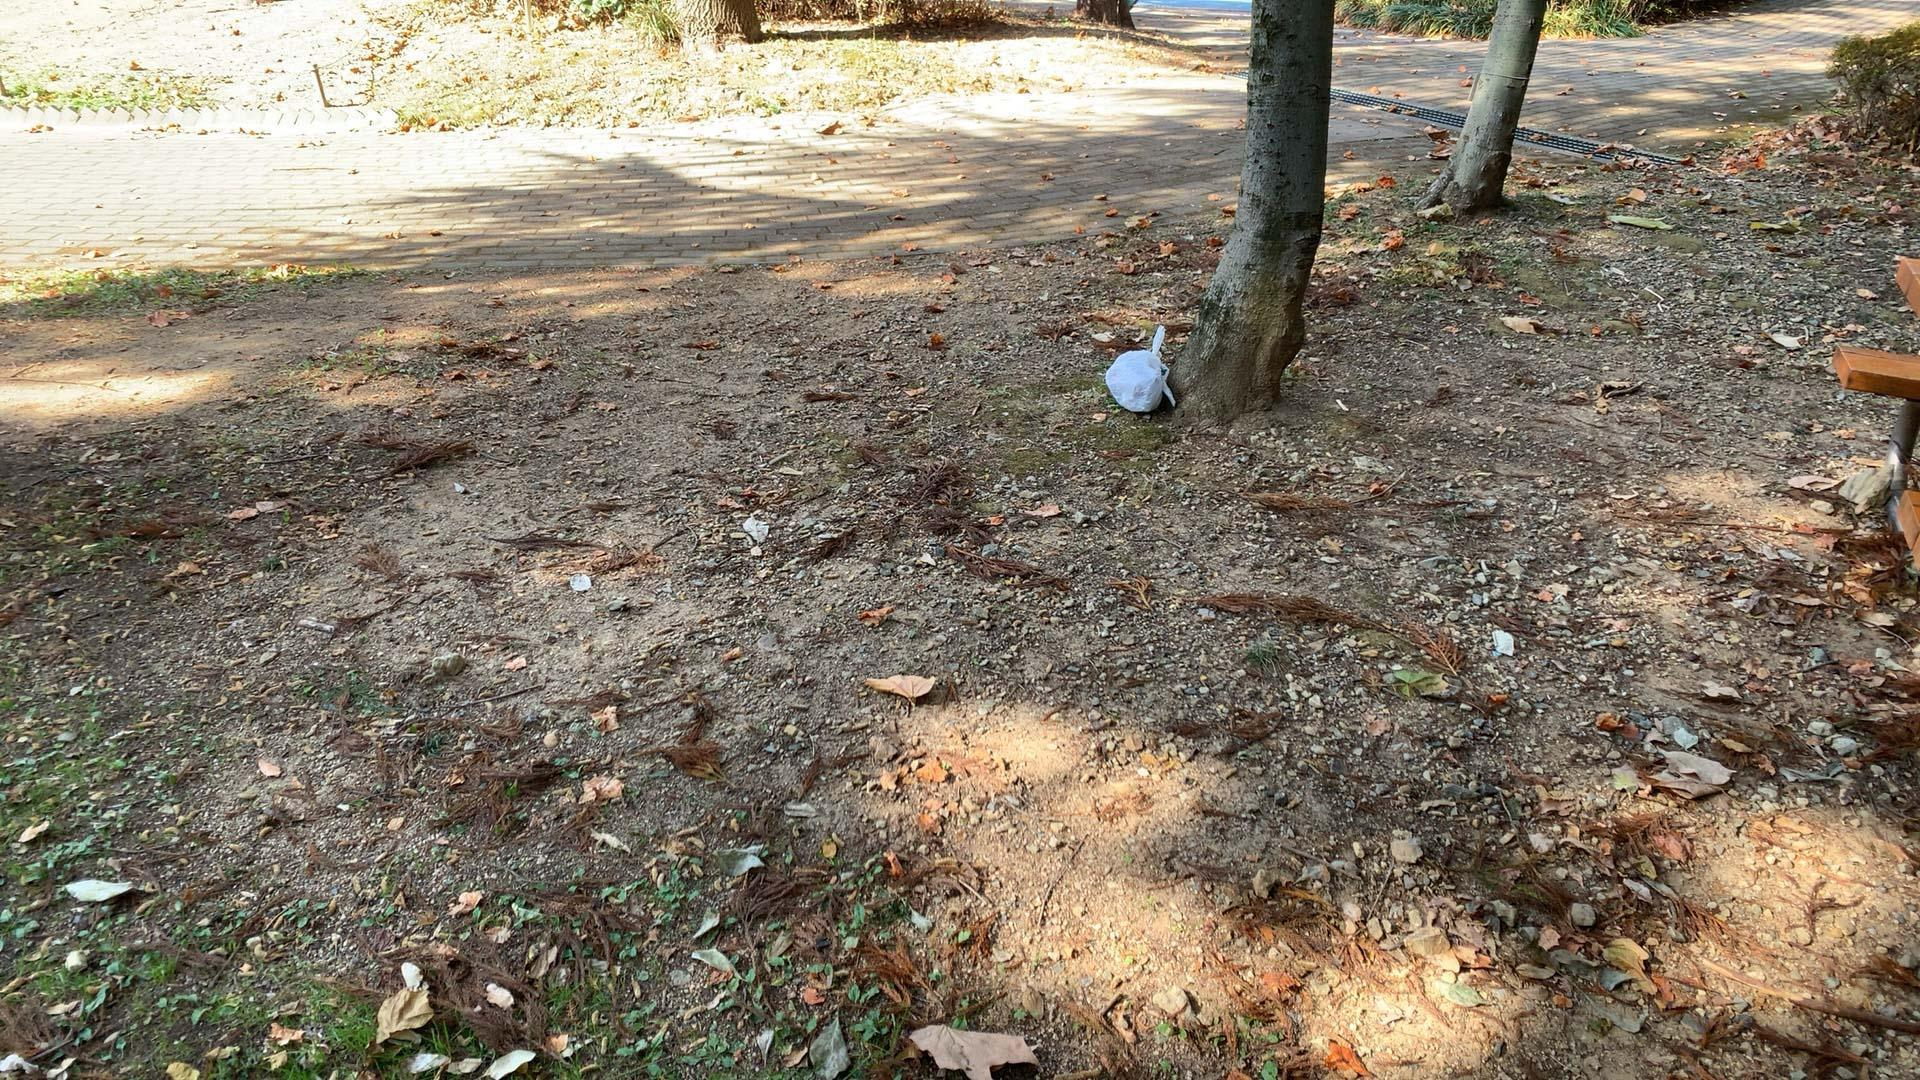white_bag: (1093, 320, 1193, 418)
